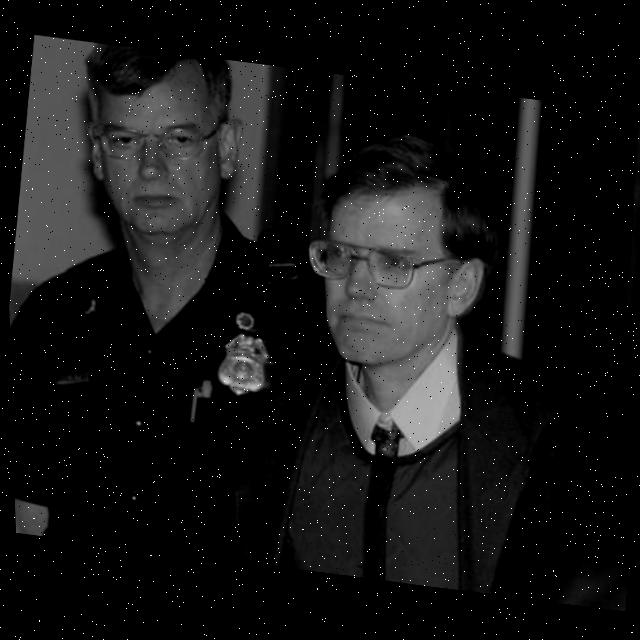face: (60, 44, 254, 268), (297, 157, 483, 383)
